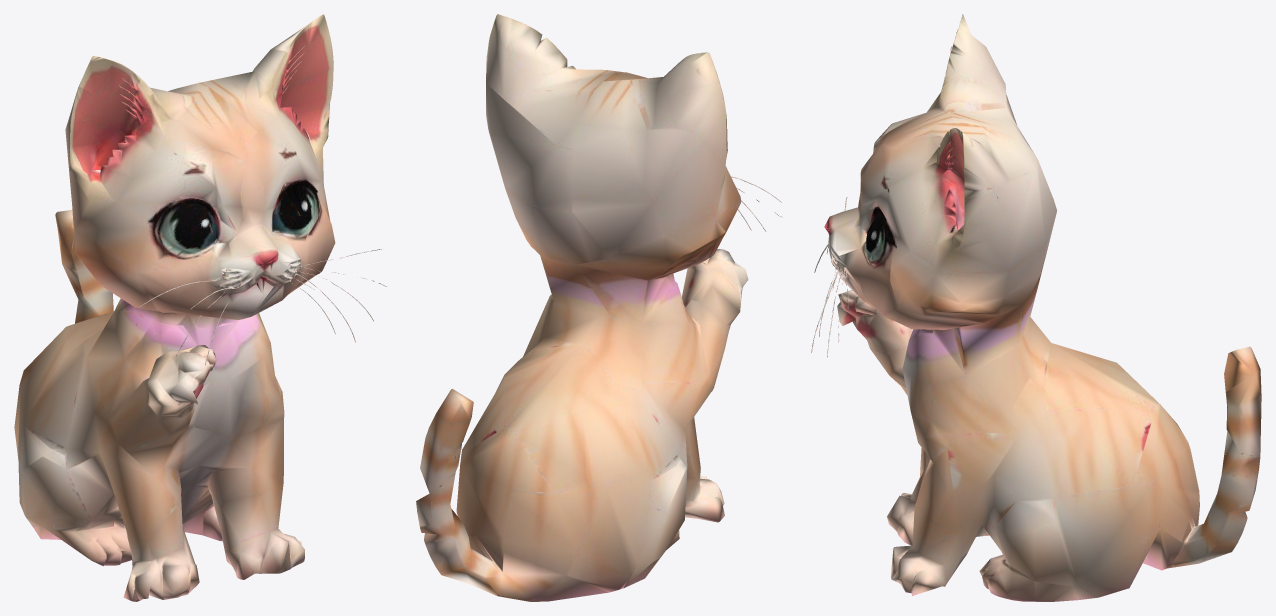
File: chaton.glb
3 views of the same model, side by side, from view 1: azimuth 30°, elevation 25°; view 2: azimuth 150°, elevation 25°; view 3: azimuth 270°, elevation 25° (orthographic). The views are drawn at different scales.
Size of the model in its own units: 0.9821 by 1.9 by 1.55.
1 material, 1 textured.
